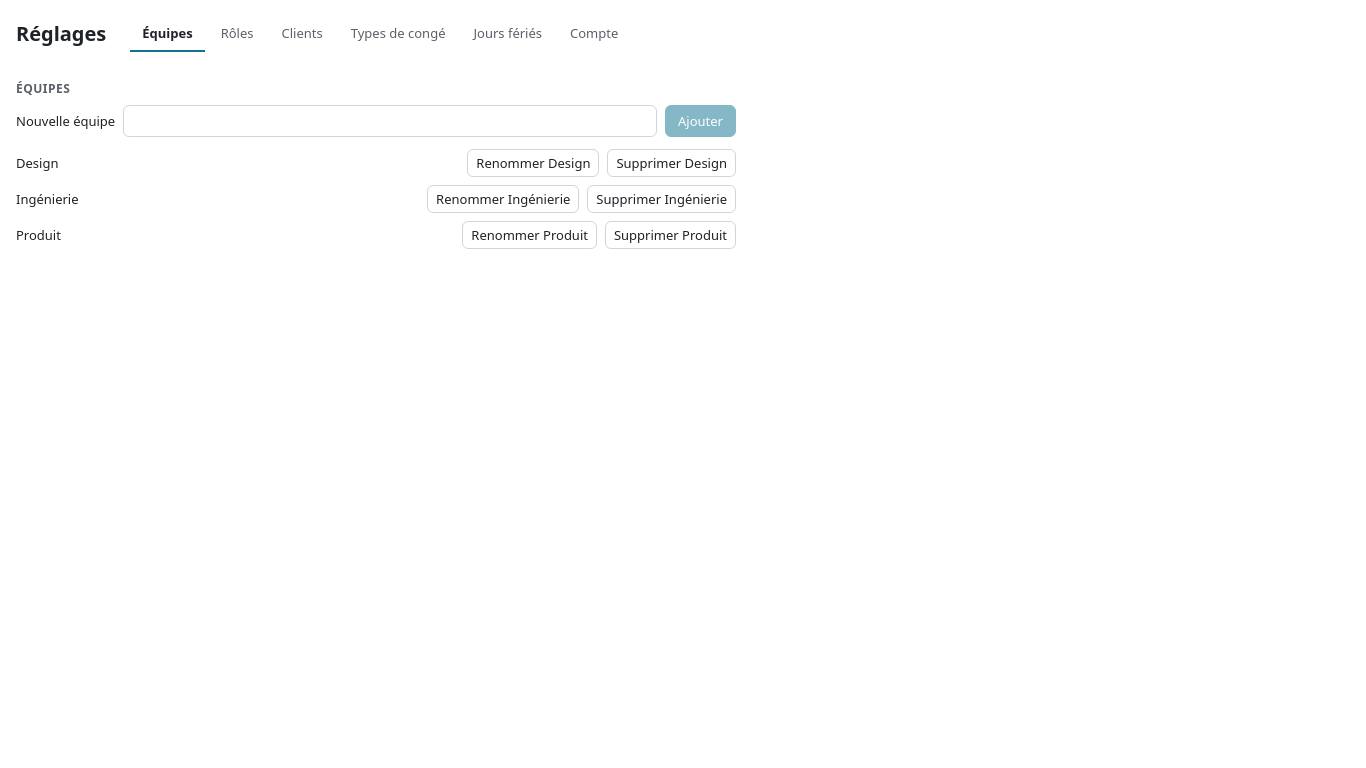
Scenario: équipes › supprimer une équipe encore utilisée est refusé, avec un message clair
The image size is (1366, 768).
What coordinates should you click on to do the following:
click the button "Supprimer Produit"
I would click on:
 (670, 235)
Its box is left=605, top=221, right=736, bottom=249.
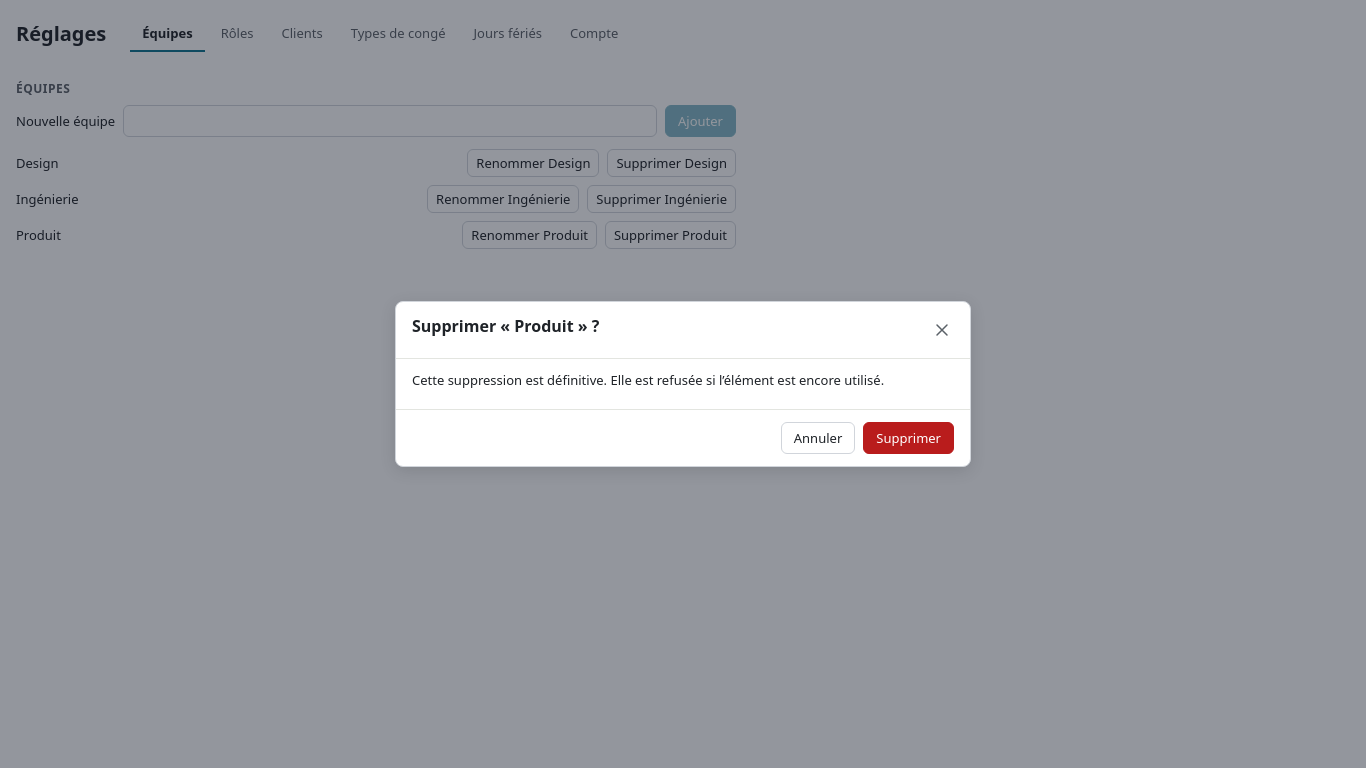
What coordinates should you click on to do the following:
click the button "Supprimer"
I would click on:
 (909, 438)
Its box is left=863, top=422, right=954, bottom=454.
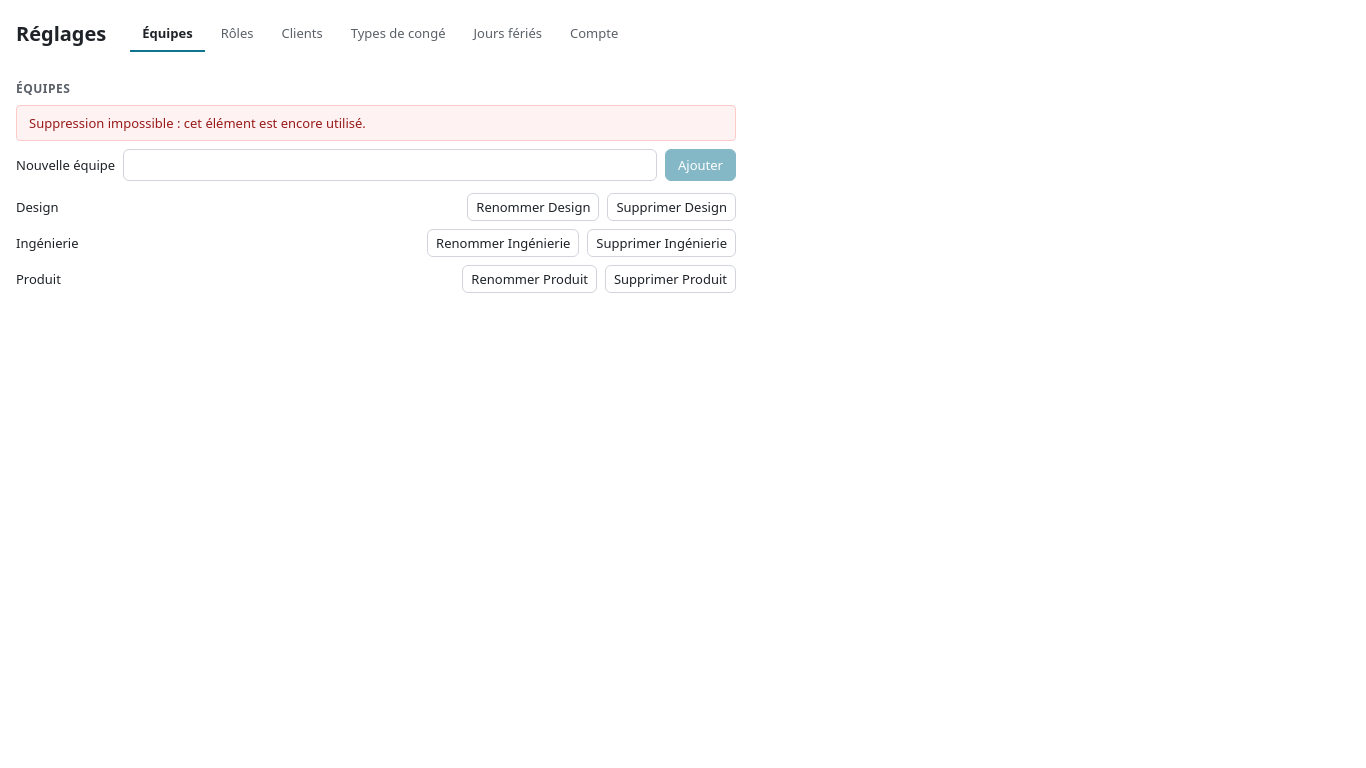
Expected: the text "Produit" is shown, left=16, top=270, right=61, bottom=288
Expected: the message "Suppression impossible : cet élément est encore utilisé." is shown, left=16, top=105, right=736, bottom=141
